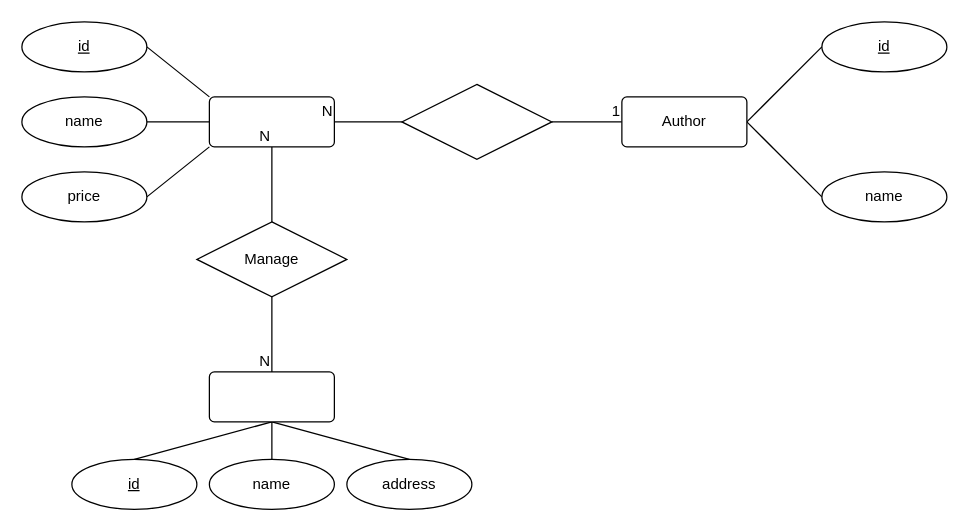
The diagram is 969 pixels wide and 531 high, and some of its shapes have lost their labels. Here are the shapes that lost their labels. From the top down, the centre of each, then its label:
At (x=271, y=121): "Book".
At (x=476, y=121): "Write".
At (x=271, y=396): "Employee".
